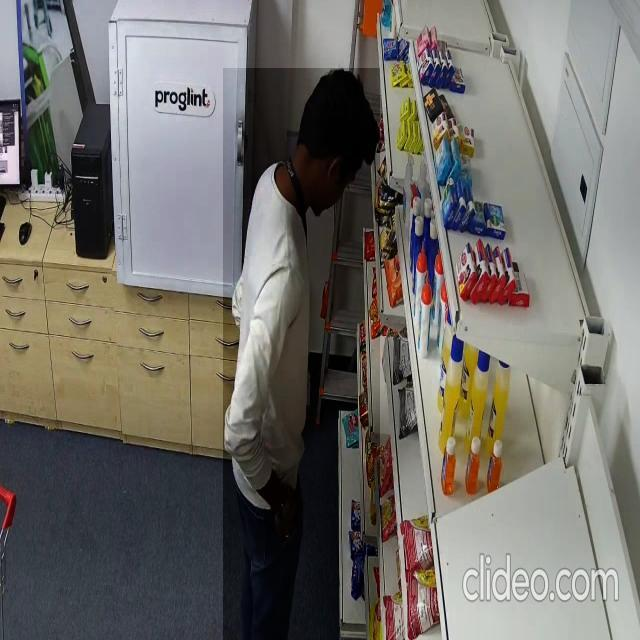Shoplifting: (223, 68, 380, 640)
